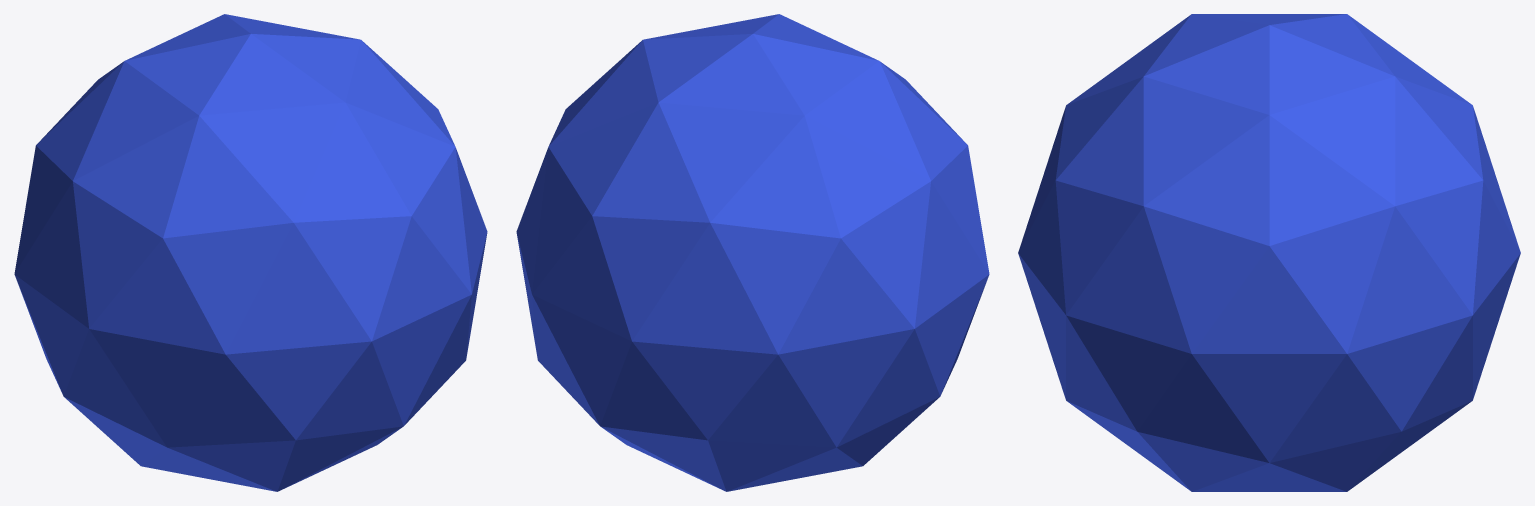
Rendered from Orb.fbx.
3 renders of one model, left to right at view 1: azimuth 30°, elevation 25°; view 2: azimuth 150°, elevation 25°; view 3: azimuth 270°, elevation 25°, orthographic. The views are drawn at different scales.
Parts seen in each view (by area): view 1: Icosphere; view 2: Icosphere; view 3: Icosphere.
Boxes of the visible parts, box(x1,y1,x2,y2) form: Icosphere: box(14, 14, 487, 491); Icosphere: box(516, 14, 989, 491); Icosphere: box(1018, 14, 1520, 491).
Size of the model in its own units: 152 by 160 by 160.
